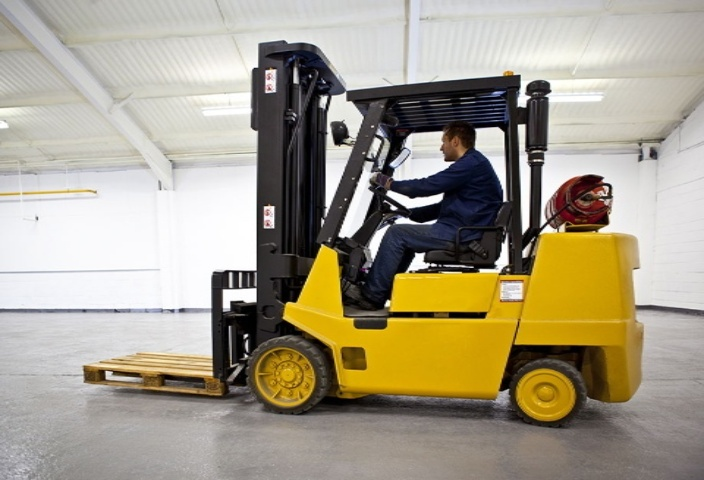industrial: (56, 27, 661, 437)
